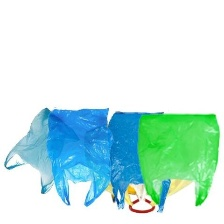plastic_bag: (136, 112, 223, 209), (41, 105, 114, 210), (102, 108, 171, 216), (2, 107, 60, 198)
